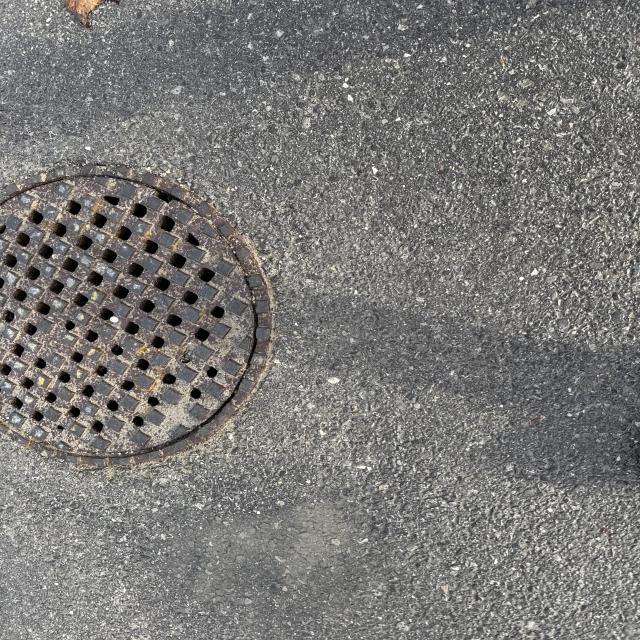Manhole: (2, 163, 278, 468)
